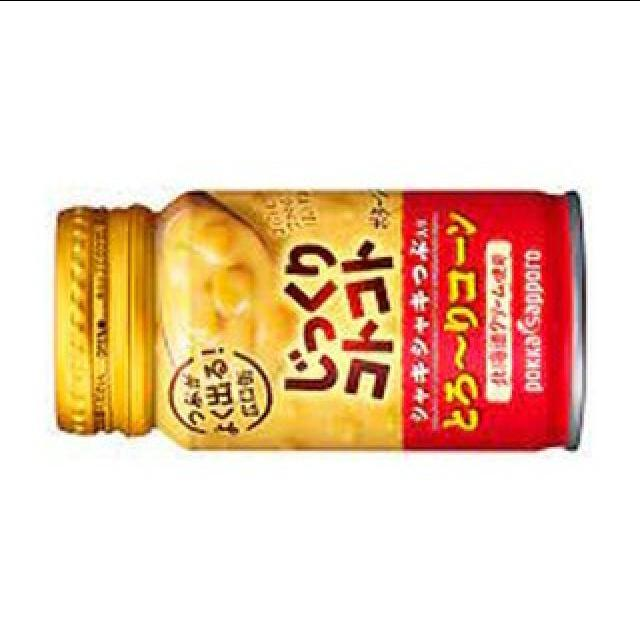can: (52, 184, 594, 453)
